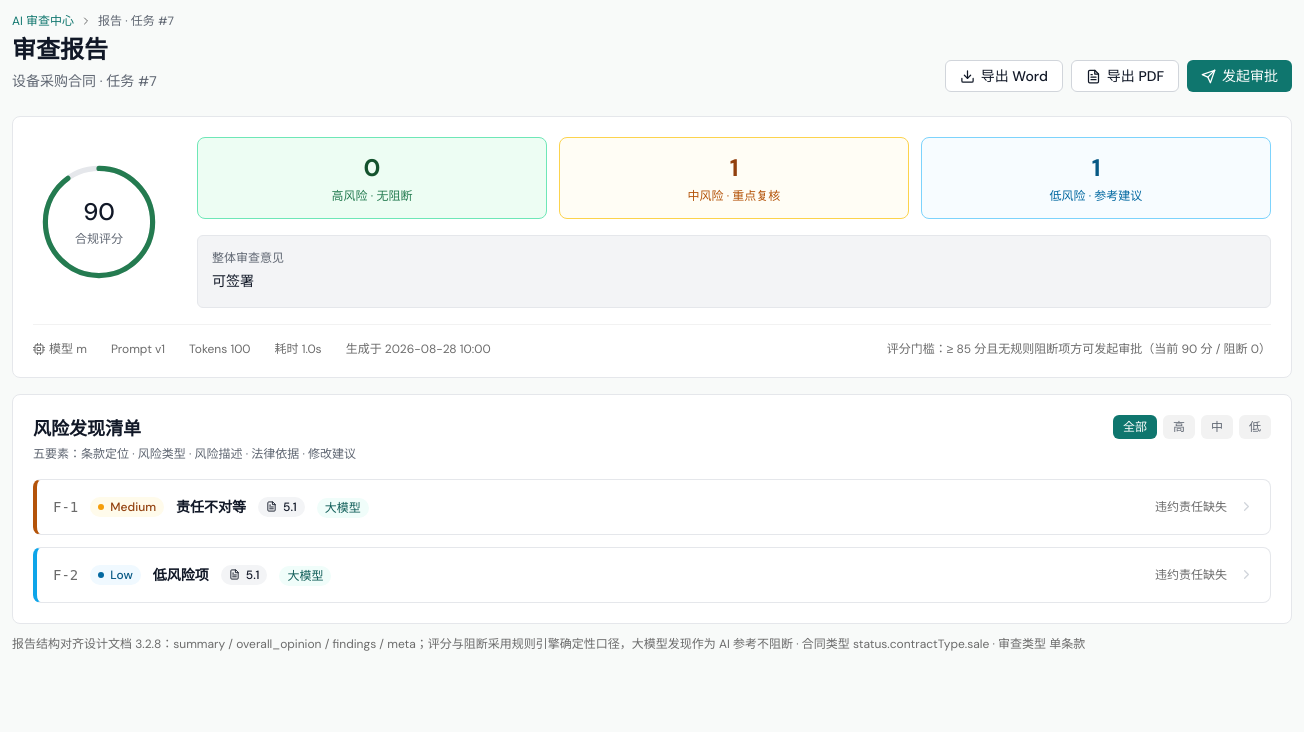
Test case: ReviewReportView 补充分支 › 中/低风险筛选可切换
This screenshot has width=1304, height=732.
Click the button "中" at (1217, 427), box 1201,415 -> 1233,439
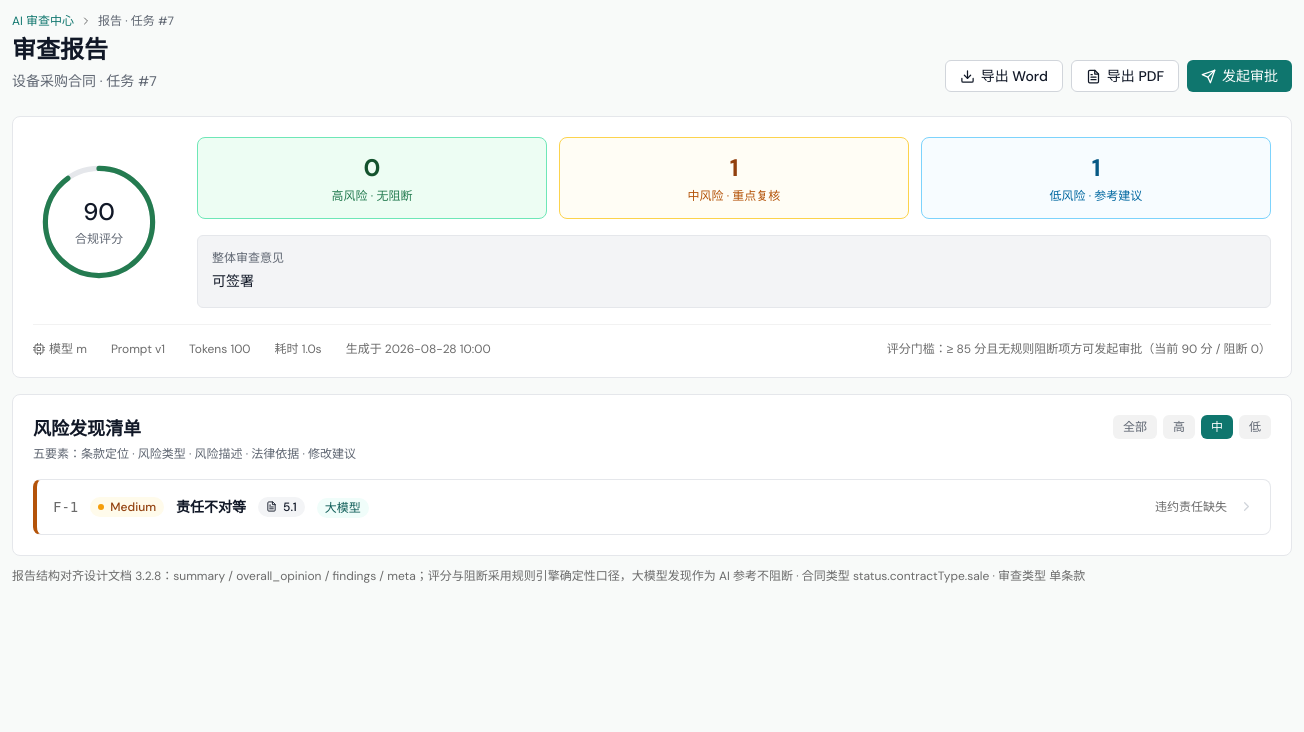
Check: the text "责任不对等" is shown, box 176,497 -> 246,517
Check: the text "低风险项" is gone
Click the button "低" at (1255, 427), box 1239,415 -> 1271,439
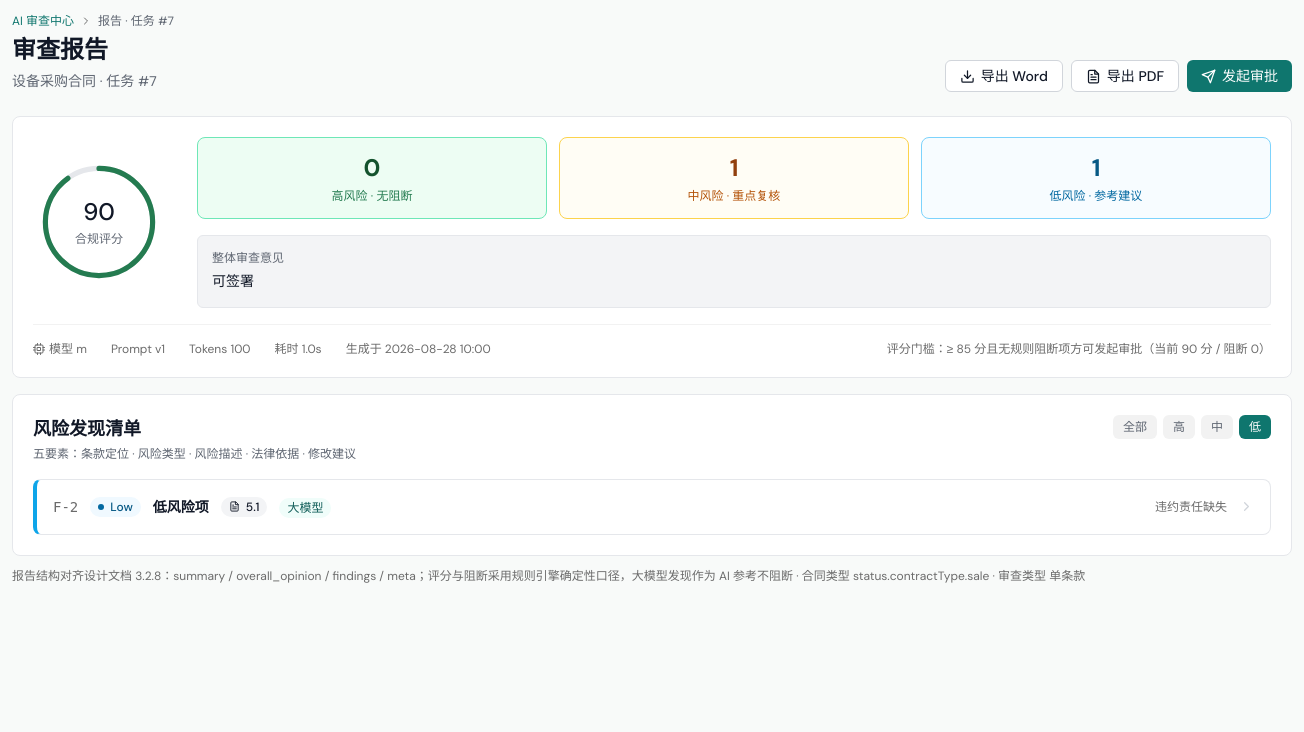
Check: the text "低风险项" is shown, box 153,497 -> 209,517
